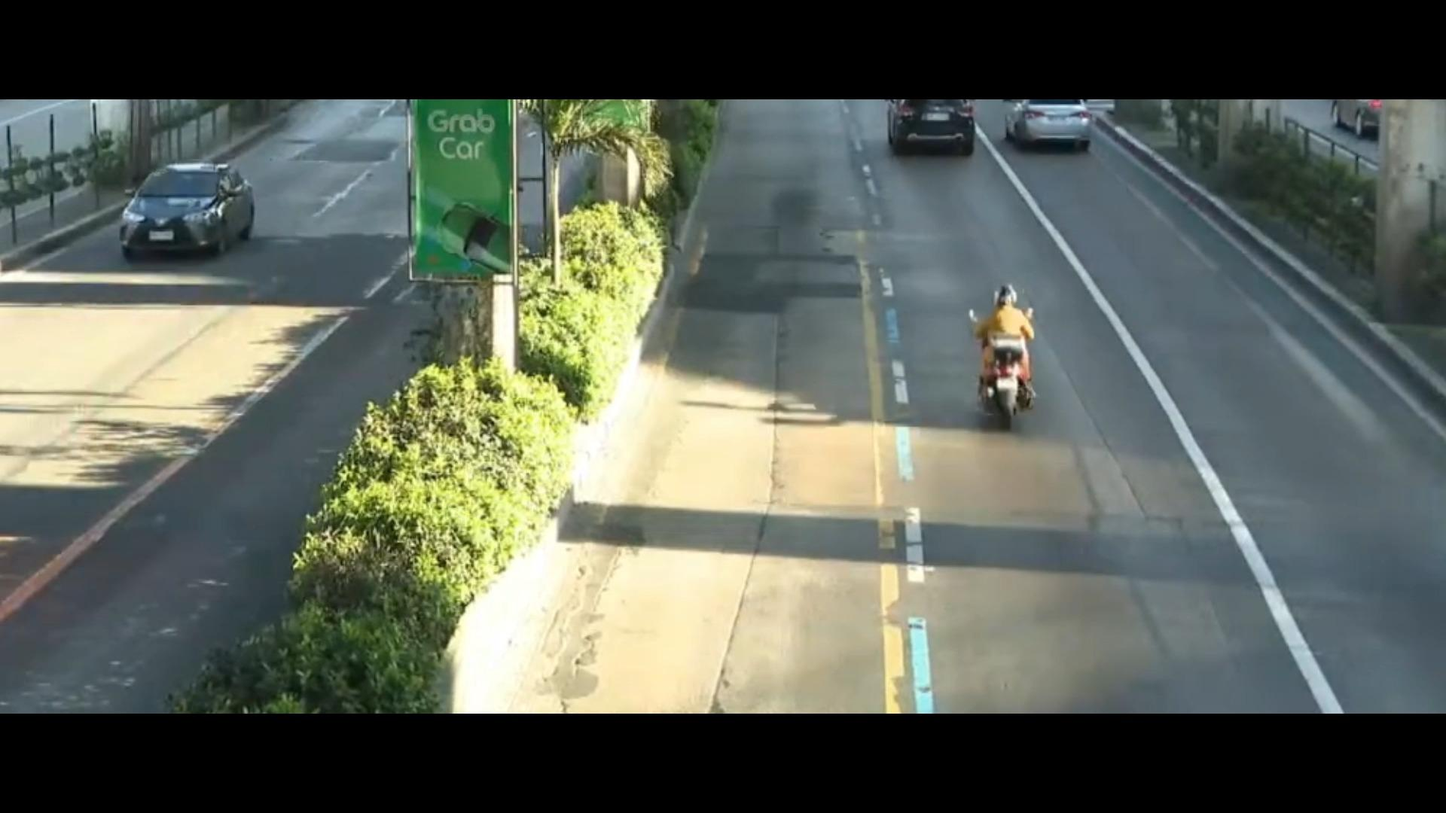Motorcycle: (917, 269, 1075, 440)
SUV: (885, 103, 981, 166), (1008, 101, 1092, 155)
Sedan: (80, 151, 279, 273)
